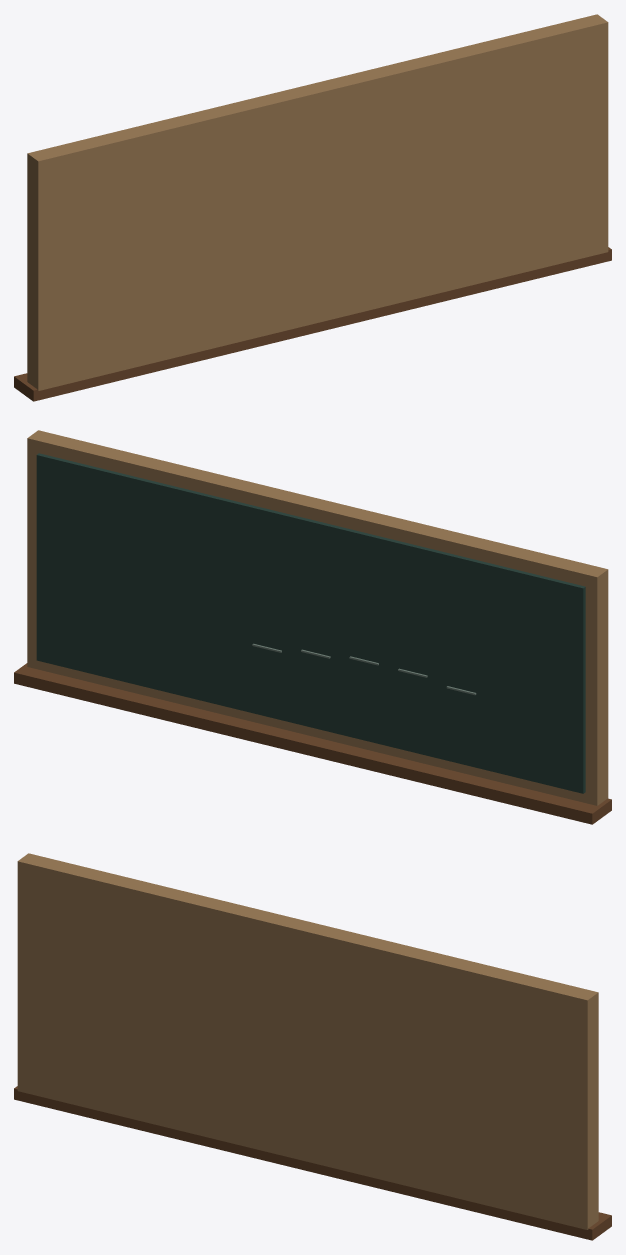
File: blackboard.glb
3 views of the same model, one above another, from view 1: azimuth 30°, elevation 25°; view 2: azimuth 150°, elevation 25°; view 3: azimuth 330°, elevation 25° (orthographic).
Parts seen in each view (by area): view 1: blackboard; view 2: blackboard; view 3: blackboard.
Part boxes in pixels (x1,y1,x2,y2): blackboard: (14,14,611,401); blackboard: (14,430,611,824); blackboard: (14,853,611,1240).
Size of the model in its own units: 2.74 by 1.08 by 0.165.
